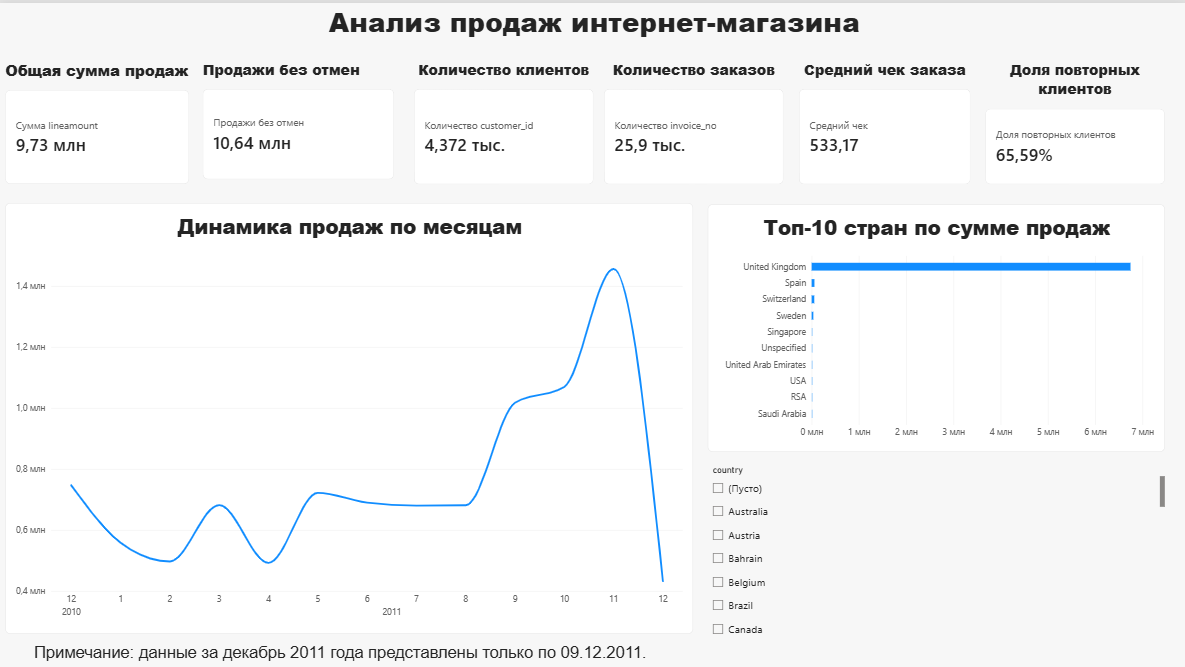

What the dashboard file says about the page in this screenshot:
{"tool":"powerbi","page":{"name":"Страница 1","canvas":[1920,1080],"ordinal":0},"visuals":[{"type":"cardVisual","title":"Общая сумма продаж","fields":{"Data":["Sum(staging fact_sales.lineamount)"]},"box":[9.7,90.2,297.3,202.3],"z":0},{"type":"cardVisual","title":"Количество заказов","fields":{"Data":["Count(staging fact_sales.invoice_no)"]},"box":[977.3,90.2,290,202.3],"z":1000},{"type":"cardVisual","title":"Количество клиентов","fields":{"Data":["Count(staging dim_customer.customer_id)"]},"box":[670.2,90.2,290,202.3],"z":2000},{"type":"lineChart","title":"Динамика продаж по месяцам","fields":{"Category":["staging dim_date.year","staging dim_date.month"],"Y":["Sum(staging fact_sales.lineamount)"]},"box":[10.3,323.2,1111.5,695.7],"z":3000},{"type":"clusteredBarChart","title":"Топ-10 стран по сумме продаж","fields":{"Category":["staging dim_customer.country"],"Y":["Sum(staging fact_sales.lineamount)"]},"box":[1145.5,324.1,738.5,399.7],"z":4000},{"type":"slicer","fields":{"Values":["staging dim_customer.country"]},"box":[1145.5,745.8,738.5,287.6],"z":5000},{"type":"cardVisual","title":"Средний чек заказа","fields":{"Data":["staging fact_sales.Средний чек"]},"box":[1291.7,90.2,277.8,202.3],"z":6000},{"type":"cardVisual","title":"Доля повторных клиентов","fields":{"Data":["staging fact_sales.Доля повторных клиентов"]},"box":[1593.9,90.2,290,202.3],"z":7000},{"type":"textbox","box":[329,0,1264.9,65.8],"z":8000},{"type":"cardVisual","title":"Продажи без отмен","fields":{"Data":["staging fact_sales.Продажи без отмен"]},"box":[329,90.2,309.5,195],"z":8001},{"type":"textbox","box":[55.6,1033.3,1002.4,47.3],"z":8002}]}

Visuals, with their boxes in screenshot pixels (x1, y1, x2, y2), scaled from the page's 1920x1080 canvas onto the 1185x667 screenshot:
"Общая сумма продаж" cardVisual: x1=6 y1=56 x2=189 y2=181
"Количество заказов" cardVisual: x1=603 y1=56 x2=782 y2=181
"Количество клиентов" cardVisual: x1=414 y1=56 x2=593 y2=181
"Динамика продаж по месяцам" lineChart: x1=6 y1=200 x2=692 y2=629
"Топ-10 стран по сумме продаж" clusteredBarChart: x1=707 y1=200 x2=1163 y2=447
slicer - staging dim_customer.country: x1=707 y1=461 x2=1163 y2=638
"Средний чек заказа" cardVisual: x1=797 y1=56 x2=969 y2=181
"Доля повторных клиентов" cardVisual: x1=984 y1=56 x2=1163 y2=181
textbox: x1=203 y1=0 x2=984 y2=41
"Продажи без отмен" cardVisual: x1=203 y1=56 x2=394 y2=176
textbox: x1=34 y1=638 x2=653 y2=666
